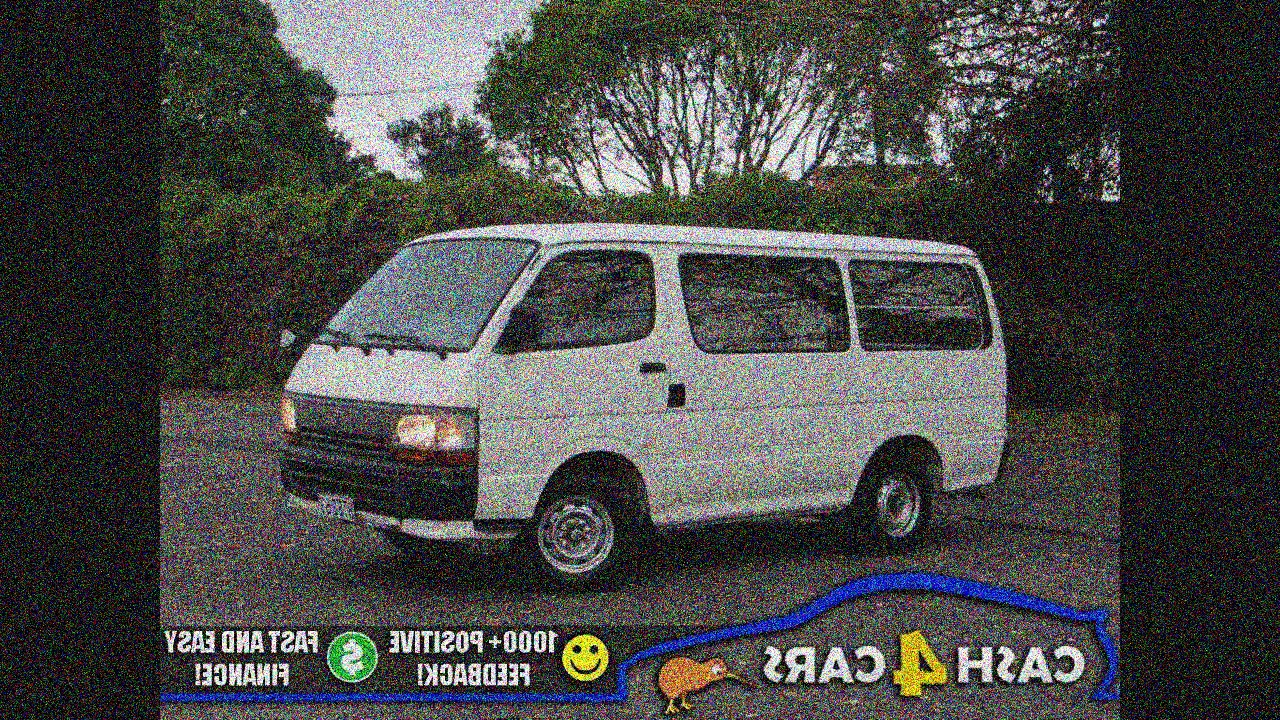van: (276, 224, 1011, 560)
